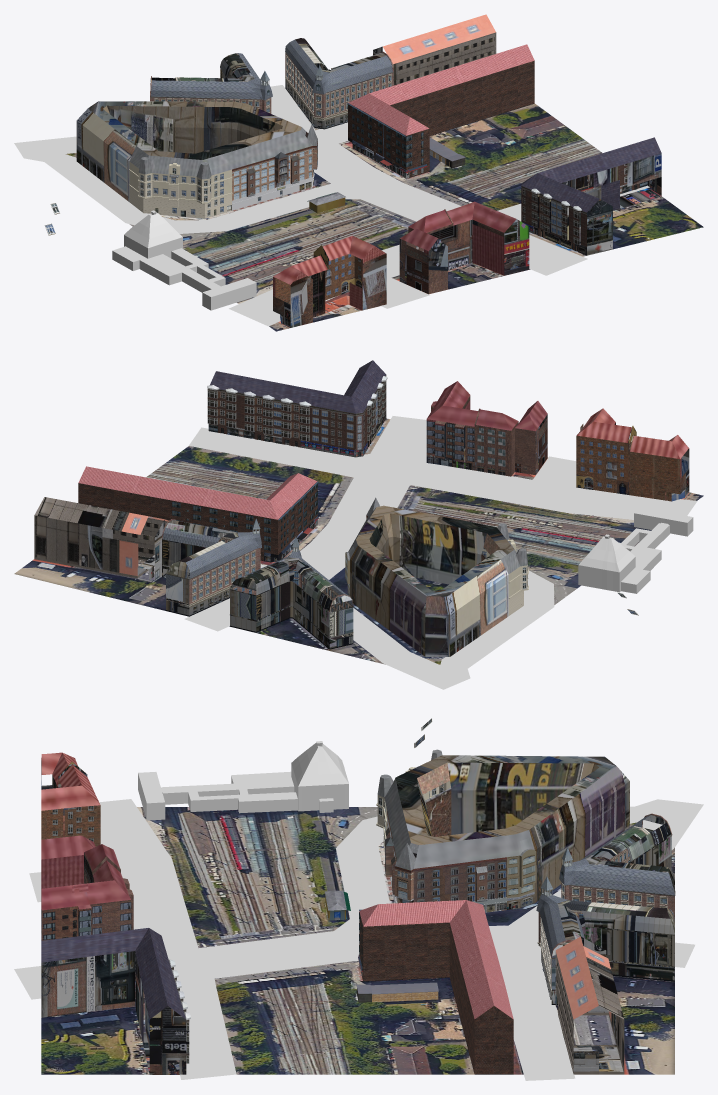
The model's file is Map_Buildings_Stage_20.fbx.
3 renders of one model, top to bottom at view 1: azimuth 30°, elevation 25°; view 2: azimuth 150°, elevation 25°; view 3: azimuth 270°, elevation 25°, orthographic. The views are drawn at different scales.
Visible parts, largest first — view 1: Capture, Plane.003, Plane.011, Plane.007, Plane, Plane.001, Plane.002, Plane.005, Plane.010, Plane.006, Plane.004, Plane.008 (+1 smaller); view 2: Plane.011, Capture, Plane.003, Plane, Plane.007, Plane.006, Plane.001, Plane.004, Plane.002, Plane.005, Plane.010; view 3: Capture, Plane.011, Plane.003, Plane.007, Plane, Plane.005, Plane.010, Plane.001, Plane.004, Plane.006, Plane.002, Plane.008 (+1 smaller).
Part boxes in pixels (<box>): Capture: <box>65,89,703,331</box>; Plane.003: <box>76,101,317,218</box>; Plane.011: <box>14,85,649,326</box>; Plane.007: <box>346,44,534,178</box>; Plane: <box>521,137,661,255</box>; Plane.001: <box>399,201,529,294</box>; Plane.002: <box>273,235,386,327</box>; Plane.005: <box>285,38,393,129</box>; Plane.010: <box>112,210,256,310</box>; Plane.006: <box>373,14,496,85</box>; Plane.004: <box>150,53,272,113</box>; Plane.008: <box>429,137,465,168</box>; Plane.011: <box>184,416,697,689</box>; Capture: <box>14,418,703,664</box>; Plane.003: <box>345,497,528,657</box>; Plane: <box>207,360,387,457</box>; Plane.007: <box>78,466,318,562</box>; Plane.006: <box>34,497,168,580</box>; Plane.001: <box>426,381,547,476</box>; Plane.004: <box>229,536,353,649</box>; Plane.002: <box>576,408,689,501</box>; Plane.005: <box>162,518,261,616</box>; Plane.010: <box>578,507,693,593</box>; Capture: <box>41,807,674,1074</box>; Plane.011: <box>14,799,703,1080</box>; Plane.003: <box>376,749,629,912</box>; Plane.007: <box>358,900,513,1074</box>; Plane: <box>41,928,190,1074</box>; Plane.005: <box>536,876,674,1005</box>; Plane.010: <box>138,741,348,820</box>; Plane.001: <box>41,835,133,940</box>; Plane.004: <box>559,813,675,918</box>; Plane.006: <box>555,936,624,1074</box>; Plane.002: <box>41,752,100,846</box>; Plane.008: <box>356,982,438,1002</box>.
Size of the model in its own units: 3038 by 355 by 2723.
